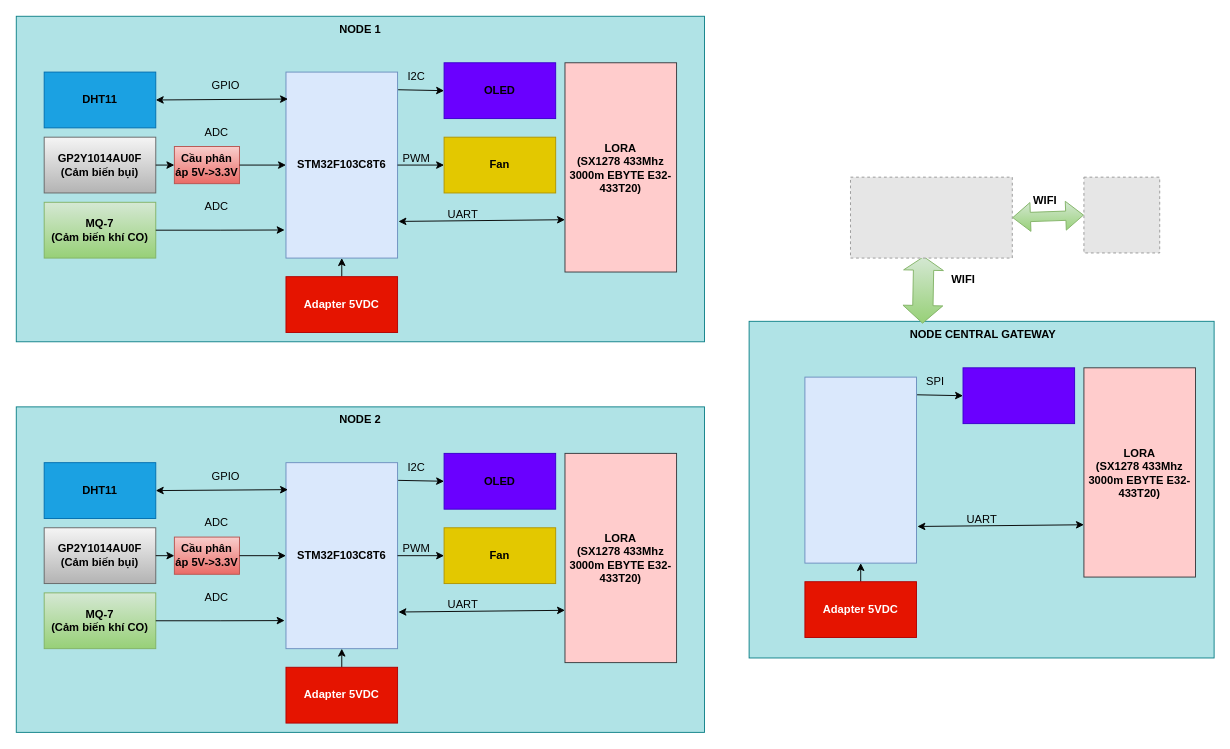
This 1230x749 diagram has some shape labels left out. Grey dashed boxes stand in for pictures. Each missing label, with the centre of its shape:
ESP32 NodeMCU-32S: the point at 860,469
LCD TFT 1.8 inch ST7735: the point at 1018,395
